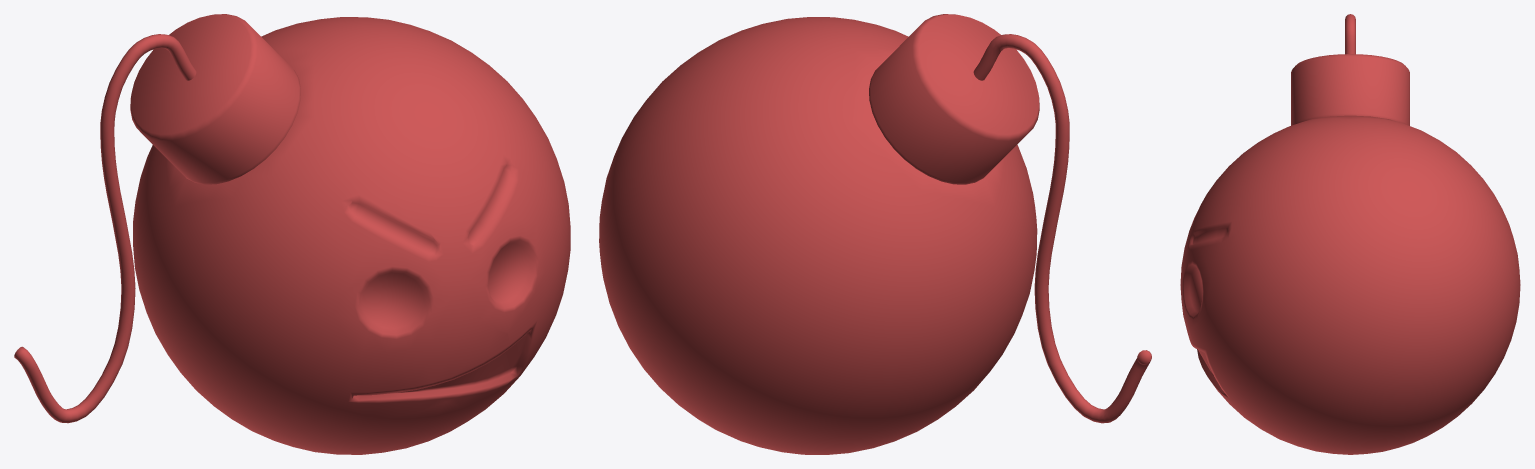
The picture shows the model from 3 angles, left to right: view 1: azimuth 30°, elevation 25°; view 2: azimuth 150°, elevation 25°; view 3: azimuth 270°, elevation 25°; orthographic projection. The views are drawn at different scales.
Visible parts, largest first — view 1: Bomb_low; view 2: Bomb_low; view 3: Bomb_low.
Part boxes in pixels (x1,y1,x2,y2): Bomb_low: [14, 14, 570, 454]; Bomb_low: [599, 14, 1151, 454]; Bomb_low: [1180, 14, 1520, 454].
Bounding box in the file's own units: 52.81 × 42.97 × 38.21.
